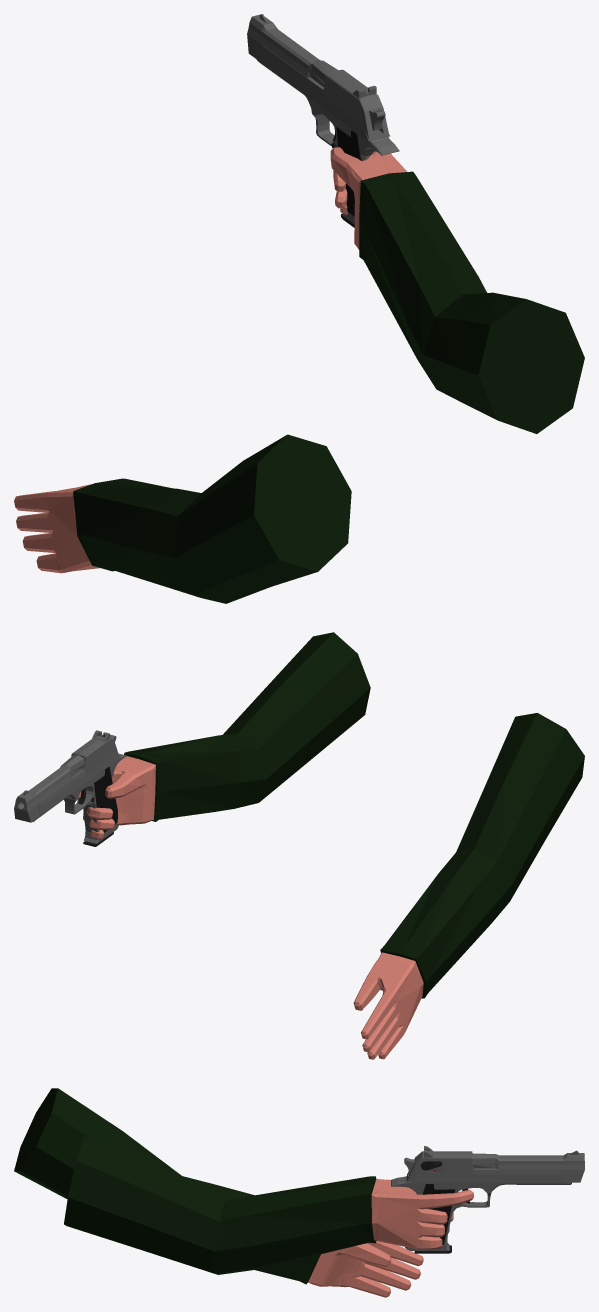
The model's file is vm_deagle.glb.
The picture shows the model from 3 angles, top to bottom: view 1: azimuth 30°, elevation 25°; view 2: azimuth 150°, elevation 25°; view 3: azimuth 270°, elevation 25°; orthographic projection. The views are drawn at different scales.
Visible parts, largest first — view 1: arms, gun; view 2: arms, gun; view 3: arms, gun.
Boxes of the visible parts, x1,y1,x2,y2 form: arms: (14, 127, 584, 603); gun: (247, 14, 399, 224); arms: (78, 632, 584, 1059); gun: (14, 730, 126, 843); arms: (14, 1088, 473, 1297); gun: (391, 1146, 584, 1250).
Bounding box in the file's own units: 1.2 × 1.08 × 2.06.
